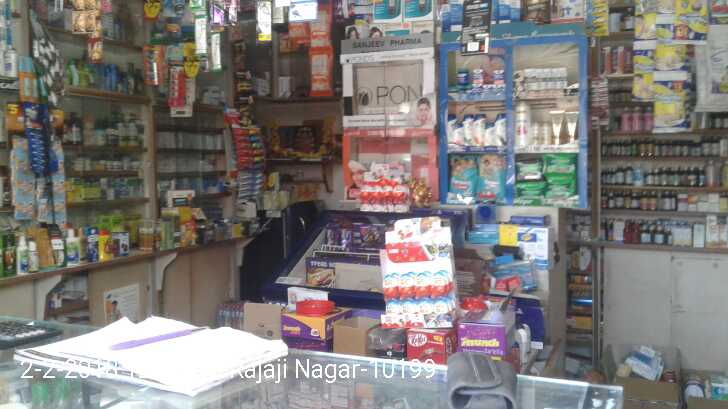beauty: (514, 100, 531, 143), (552, 62, 568, 89), (565, 113, 578, 145), (550, 110, 561, 146), (524, 64, 537, 92), (496, 117, 509, 144), (473, 115, 484, 144), (452, 118, 463, 146), (543, 65, 554, 91), (538, 121, 549, 146), (534, 68, 545, 91), (463, 116, 472, 144), (484, 123, 495, 145), (513, 72, 525, 92), (531, 122, 538, 142)
pharmacy: (446, 152, 478, 202), (480, 150, 506, 202), (542, 153, 577, 174), (546, 176, 576, 200), (515, 160, 540, 181), (515, 180, 541, 200), (451, 67, 469, 85), (469, 69, 485, 83), (490, 71, 504, 82)
